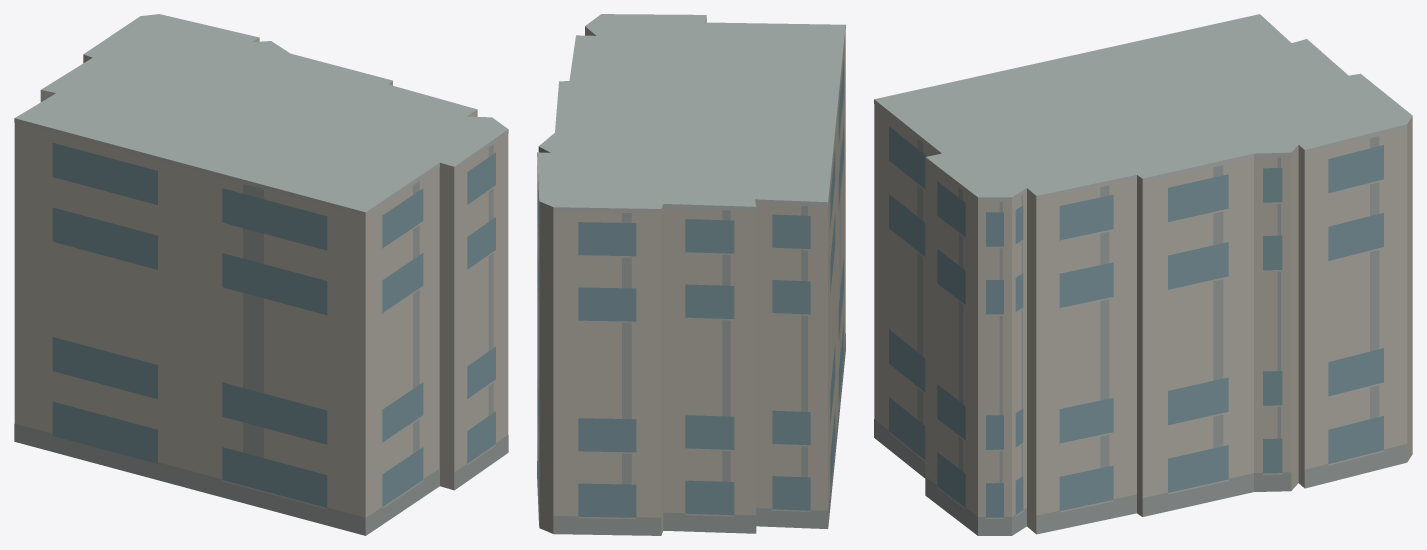
File: survey-upis-32582944.glb
3 renders of one model, left to right at view 1: azimuth 30°, elevation 25°; view 2: azimuth 150°, elevation 25°; view 3: azimuth 270°, elevation 25°, orthographic. The views are drawn at different scales.
Visible parts, largest first — view 1: survey-upis-32582944.tmp; view 2: survey-upis-32582944.tmp; view 3: survey-upis-32582944.tmp.
Part boxes in pixels (x1,y1,x2,y2): survey-upis-32582944.tmp: (14, 14, 508, 535); survey-upis-32582944.tmp: (537, 14, 845, 535); survey-upis-32582944.tmp: (874, 14, 1412, 535).
Bounding box in the file's own units: 20 × 17.2 × 24.81.
